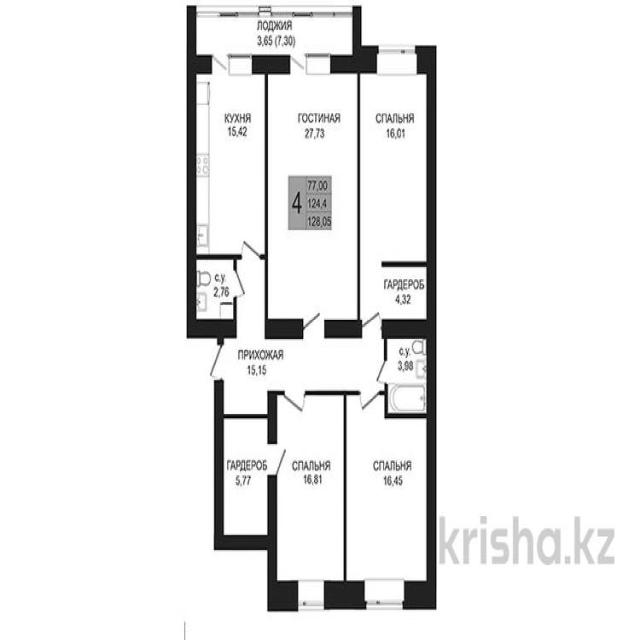balcony: (188, 4, 362, 62)
bathroom: (385, 334, 432, 414), (191, 254, 234, 322)
hallway: (219, 331, 386, 397)
kitchen: (192, 67, 266, 254)
living_room: (268, 60, 362, 328), (347, 416, 432, 590), (357, 63, 430, 264), (272, 394, 346, 591)
other: (220, 418, 272, 538), (360, 264, 432, 329)
